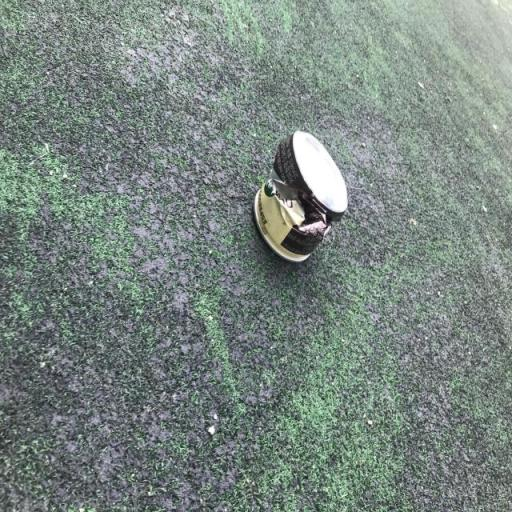metal: (244, 101, 353, 282)
